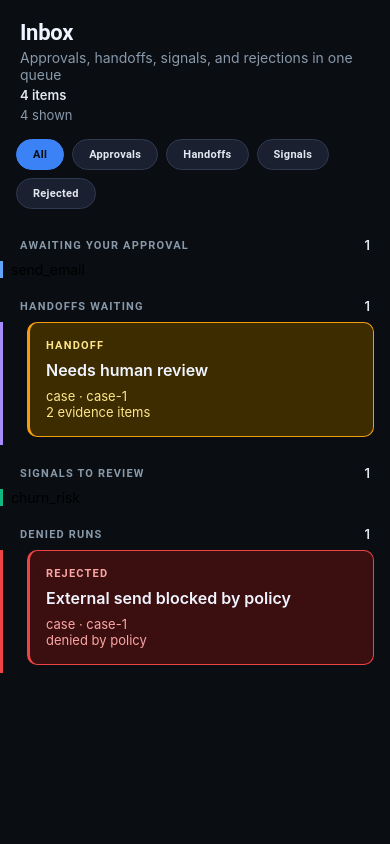
InboxScreen › filters the feed to handoffs
Click the element with test id "inbox-chip-handoff" at (207, 154), box left=166, top=139, right=248, bottom=170
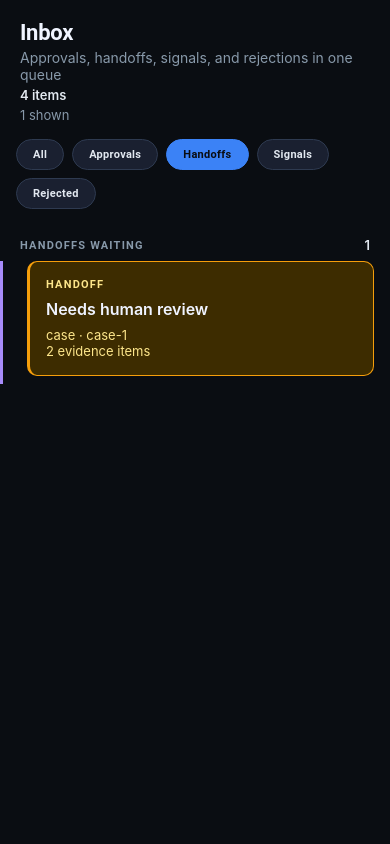
Expected: the element with test id "inbox-handoff-run-1" is shown, left=27, top=261, right=374, bottom=376
Now the element with test id "inbox-approval-apr-1" is gone
Now the element with test id "inbox-rejected-run-denied-1" is gone
